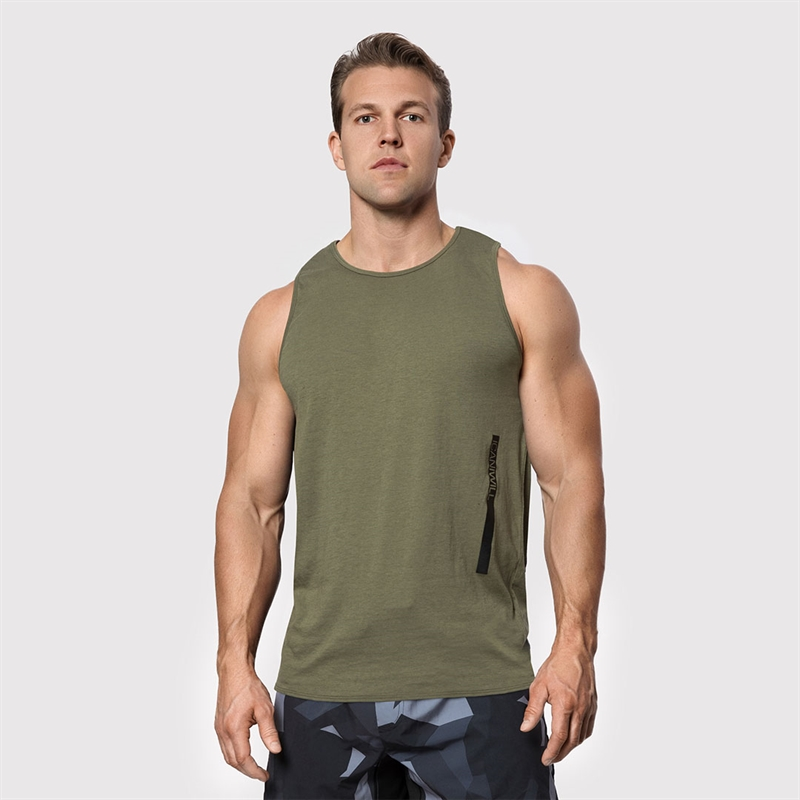NOTSAFE: (282, 34, 536, 695)
